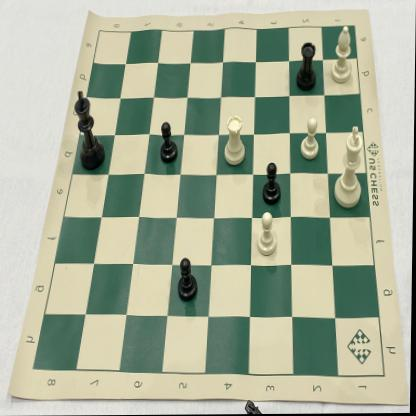black-king: (71, 86, 109, 174)
black-pawn: (175, 251, 202, 305), (260, 160, 285, 207), (158, 118, 180, 168)
black-rook: (294, 40, 320, 94)
white-bishop: (330, 23, 355, 87)
white-king: (332, 124, 368, 213)
white-pawn: (254, 210, 281, 259), (299, 114, 323, 162)
white-rook: (222, 113, 249, 169)
